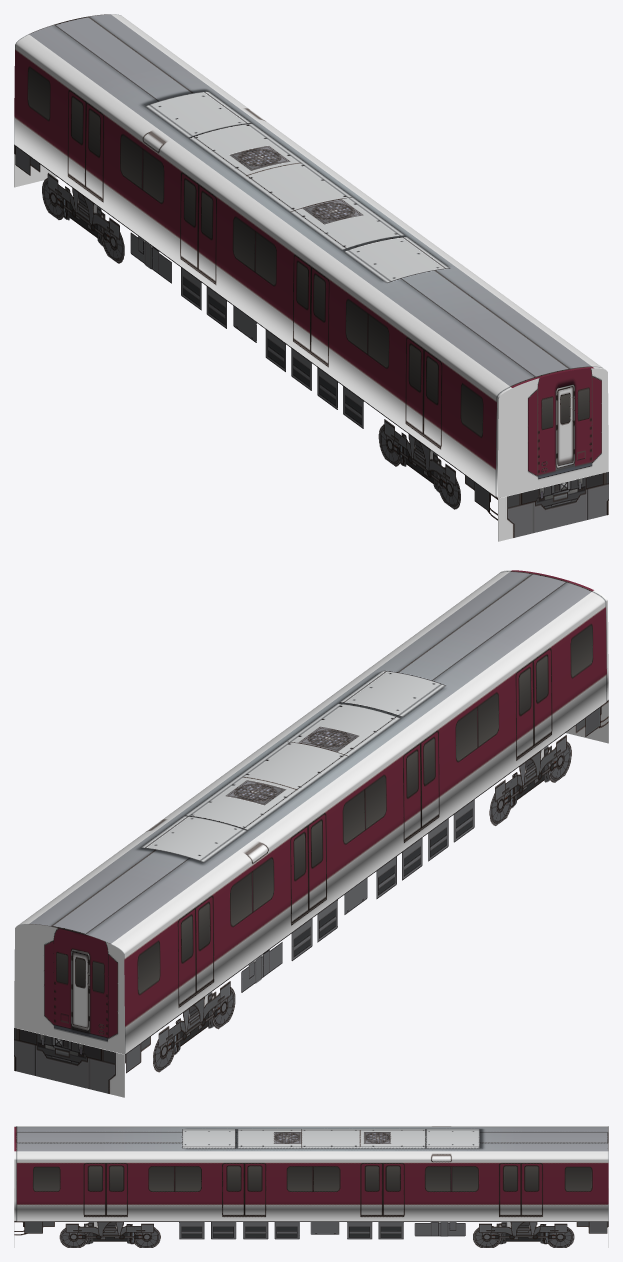
File: car3.glb
The picture shows the model from 3 angles, top to bottom: view 1: azimuth 30°, elevation 25°; view 2: azimuth 150°, elevation 25°; view 3: azimuth 270°, elevation 25°; orthographic projection. The views are drawn at different scales.
Visible parts, largest first — view 1: kintetsu-1020-car3; view 2: kintetsu-1020-car3; view 3: kintetsu-1020-car3.
Boxes of the visible parts, bbox=[...] form: kintetsu-1020-car3: bbox=[14, 14, 608, 541]; kintetsu-1020-car3: bbox=[14, 570, 608, 1097]; kintetsu-1020-car3: bbox=[14, 1126, 608, 1247].
Bounding box in the file's own units: 2.8 × 3.71 × 21.2.
Materials: 8 (7 with a texture image).
